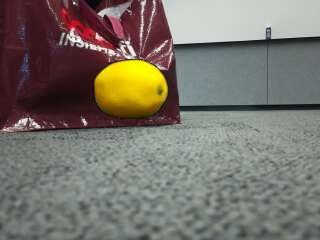lemon: (95, 60, 168, 119)
